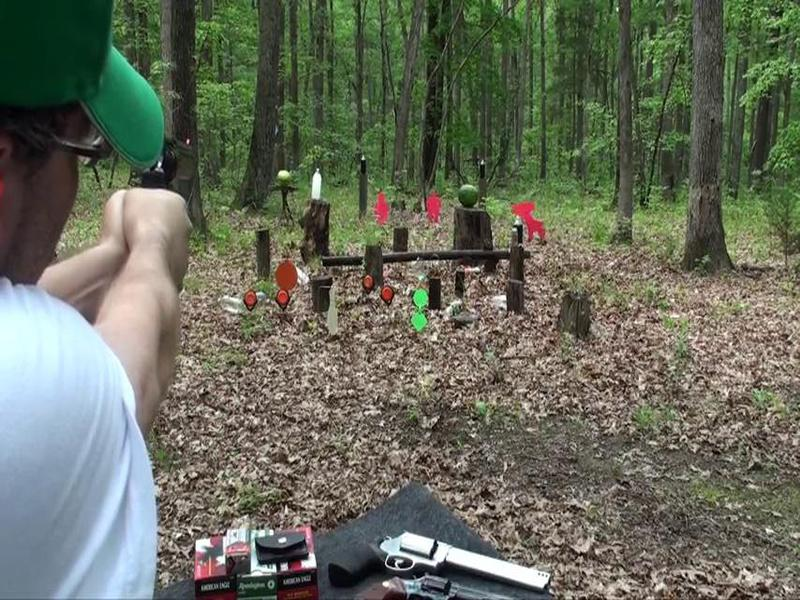Revolver: (121, 124, 212, 210)
